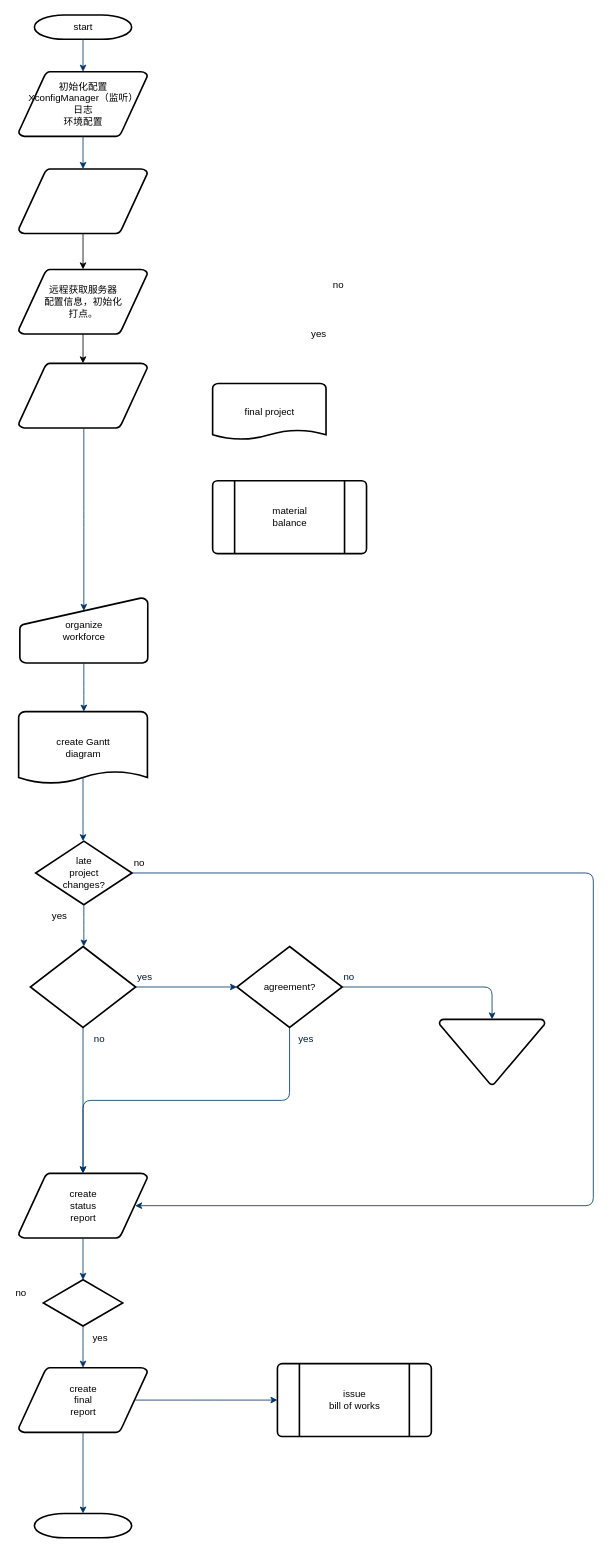
Image size: 614x1552. Some labels were removed from this diagram. The shapes that lost their labels are listed below. From the top down, each one's centre as x and y in pixels, then its label:
the point at 82,201: 初始化soa-agent 服务自动更新 redis
the point at 82,395: 初始化环境管理器 environmentManager
the point at 82,986: investor disapproves investment?
the point at 491,1051: terminate contract
the point at 82,1302: project complete?
the point at 82,1525: end
